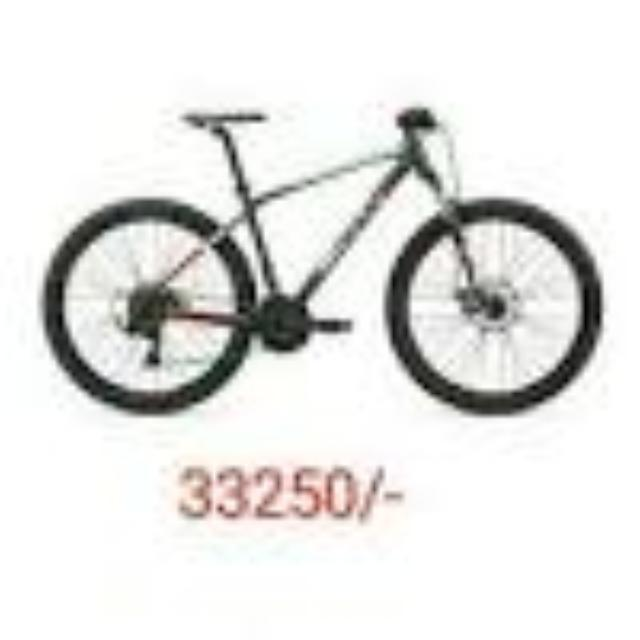obstacle: (32, 96, 612, 424)
